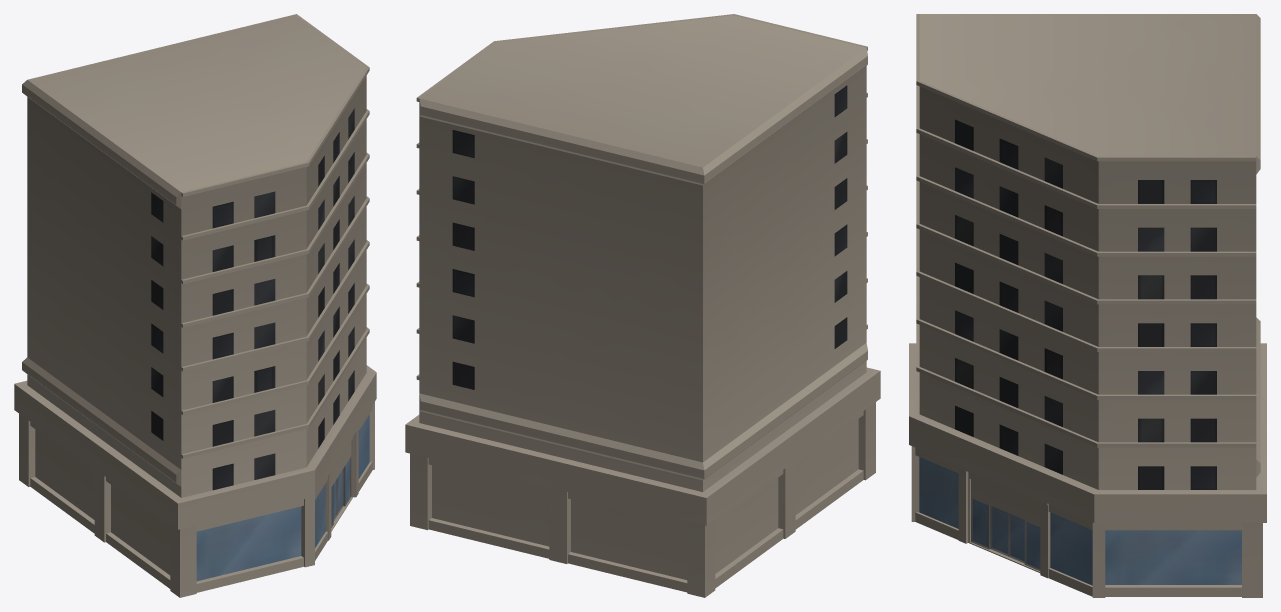
The model's file is Bld_Building_G.fbx.
The picture shows the model from 3 angles, left to right: view 1: azimuth 30°, elevation 25°; view 2: azimuth 150°, elevation 25°; view 3: azimuth 270°, elevation 25°; orthographic projection. The views are drawn at different scales.
Visible parts, largest first — view 1: Bld_Building_G; view 2: Bld_Building_G; view 3: Bld_Building_G.
Part boxes in pixels (x1=…): Bld_Building_G: x1=14, y1=14, x2=376, y2=597; Bld_Building_G: x1=405, y1=14, x2=880, y2=597; Bld_Building_G: x1=909, y1=14, x2=1266, y2=597.
Size of the model in its own units: 1700 by 2300 by 1700.
